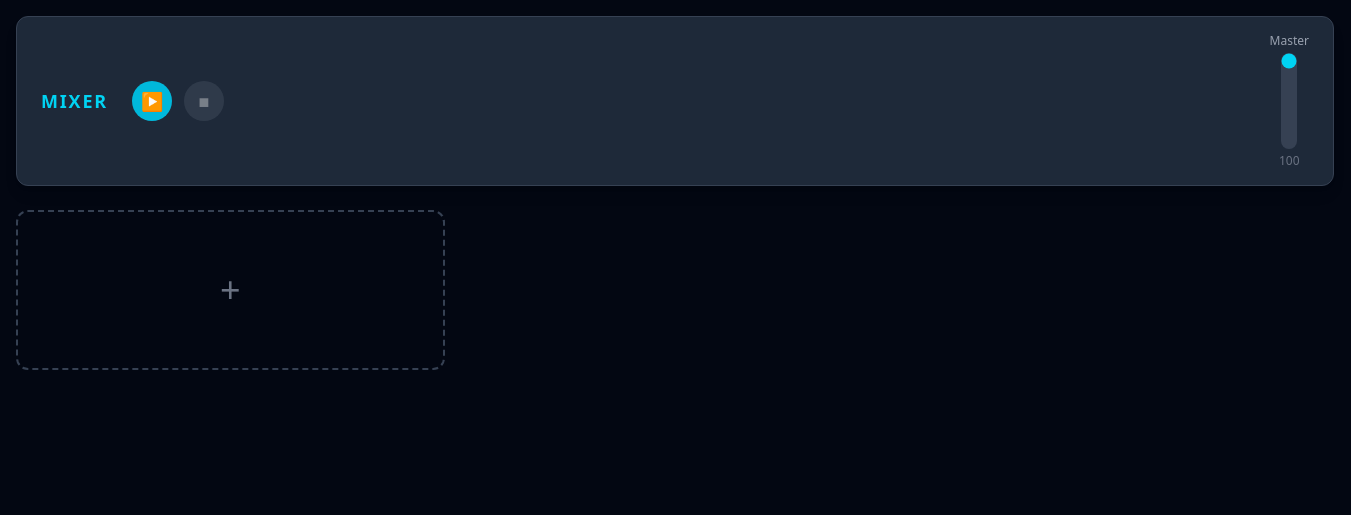
Test: MixerBoard › removes a track when ✕ is clicked
Step 1. Click the button titled "Add track" → coordinates (230, 290), box [16, 210, 445, 370]
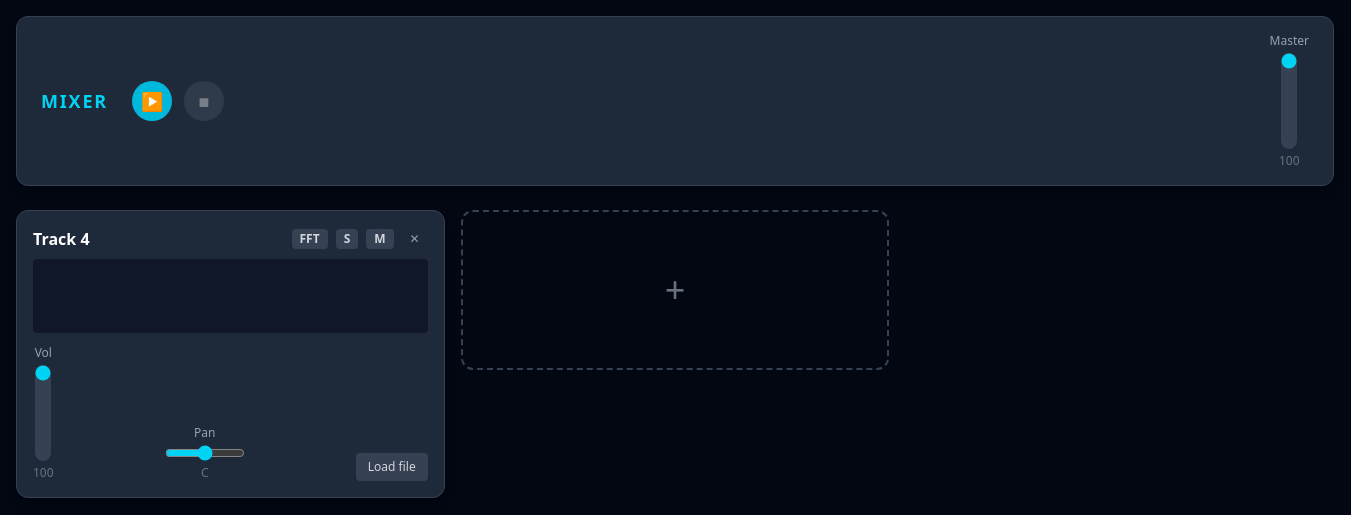
expect the button "Load file" is shown: met, box [356, 453, 428, 481]
Step 2. Click the button "✕" → coordinates (415, 239), box [402, 229, 428, 249]
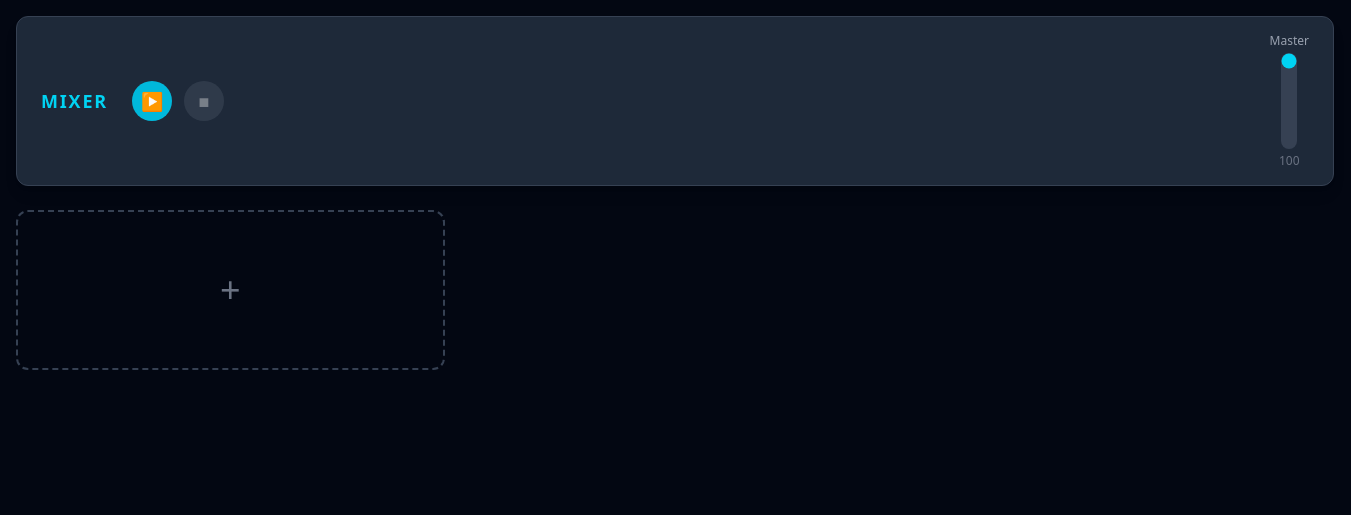
expect the button "Load file" is gone: met
